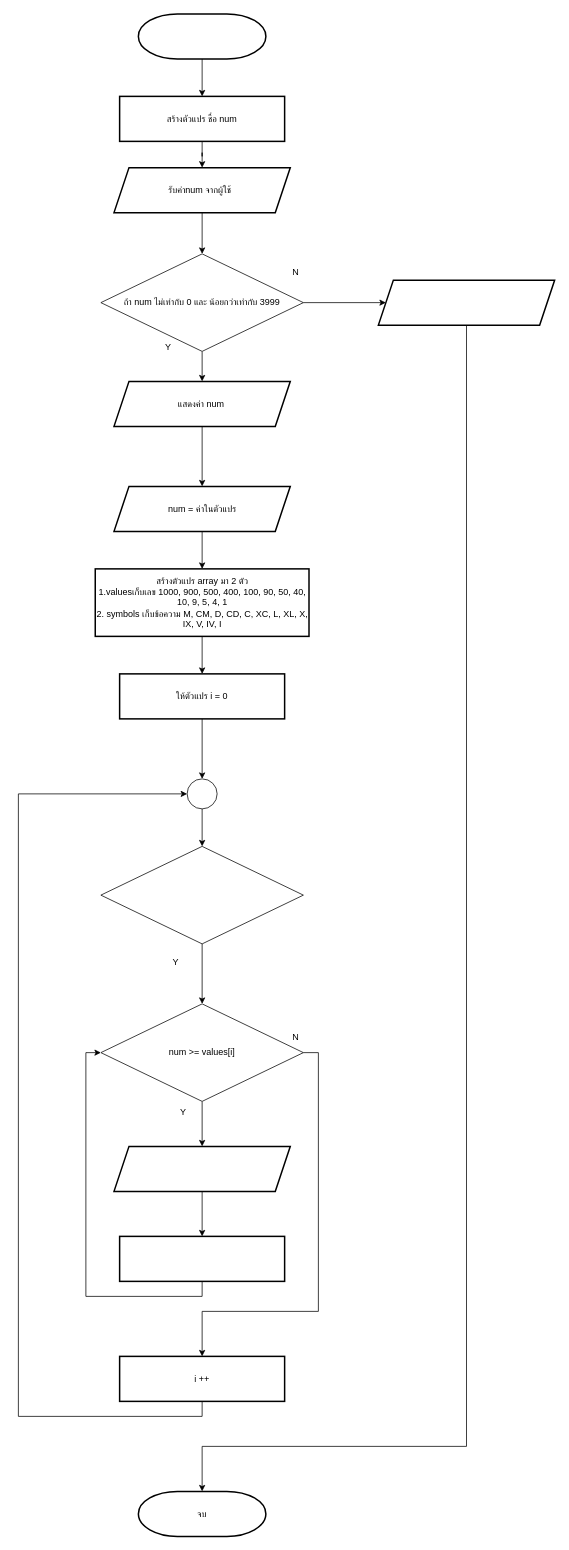
The diagram is 569 pixels wide and 1550 high, and some of its shapes have lost their labels. The shapes that lost their labels are listed below. From the top down, each one's box as (x1, y1, x2, y2) in pixels, then its label:
(137, 13, 266, 59): เริ่ม
(377, 279, 555, 326): แสดงคำว่า ERROR
(100, 846, 303, 944): i น้อยกว่า 13
(113, 1145, 291, 1192): แสดงค่าตัวแปร symbols ตัวแหน่งที่ i
(118, 1235, 285, 1282): num เท่ากับ num ลบ values ตำแหน่งที่ i
